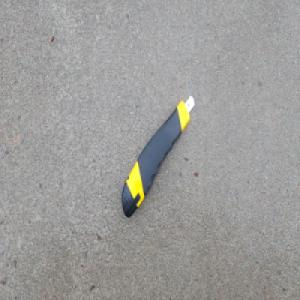Cutter: (118, 94, 193, 219)
